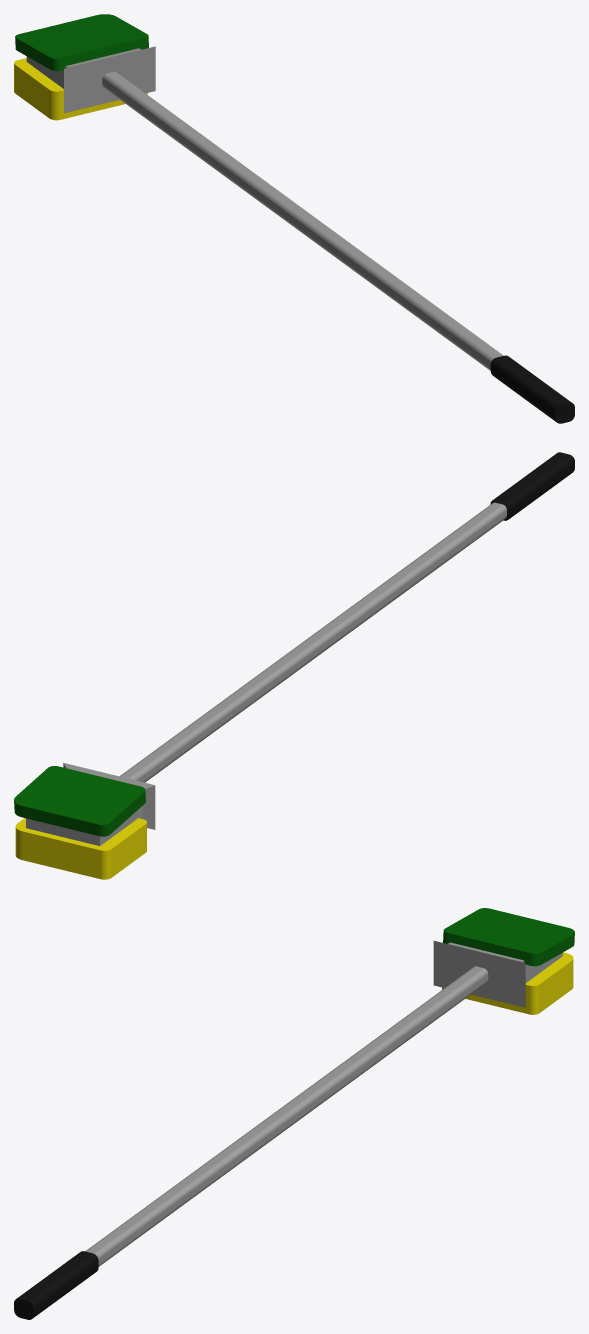
File: Esponja.fbx
3 renders of one model, top to bottom at view 1: azimuth 30°, elevation 25°; view 2: azimuth 150°, elevation 25°; view 3: azimuth 330°, elevation 25°, orthographic.
Visible parts, largest first — view 1: Esponja; view 2: Esponja; view 3: Esponja.
Boxes of the visible parts, bbox=[...] form: Esponja: bbox=[14, 14, 574, 423]; Esponja: bbox=[14, 452, 574, 879]; Esponja: bbox=[14, 908, 574, 1319].
Bounding box in the file's own units: 266 × 159 × 2378.
